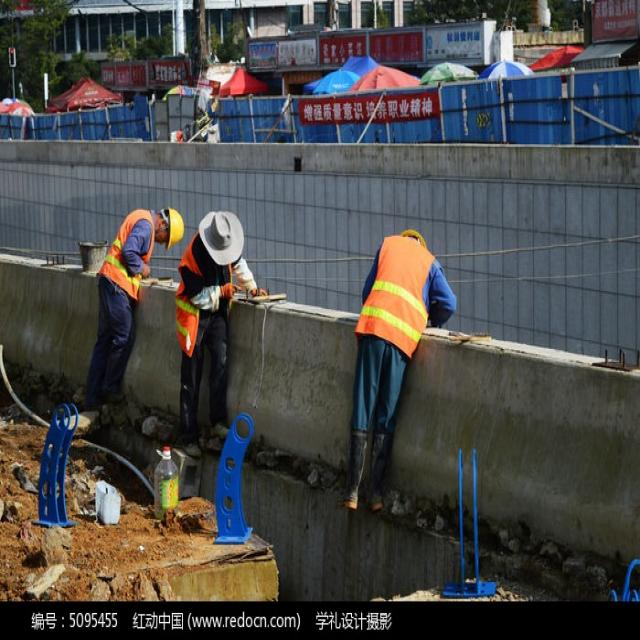Reflective-Jacket: (355, 237, 439, 361), (169, 250, 231, 354), (97, 206, 154, 300)
Safety-Helmet: (166, 204, 186, 248)
